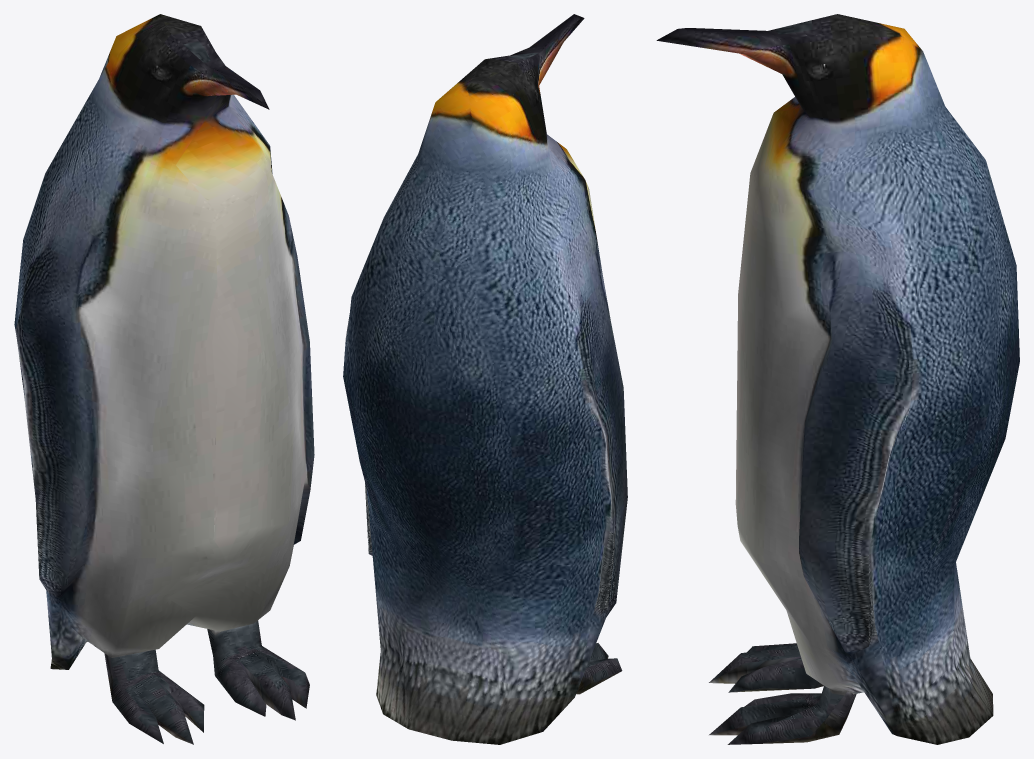
The model's file is penguin.gltf.
3 views of the same model, side by side, from view 1: azimuth 30°, elevation 25°; view 2: azimuth 150°, elevation 25°; view 3: azimuth 270°, elevation 25° (orthographic). The views are drawn at different scales.
Visible parts, largest first — view 1: 10033_Penguin_v1_iterations-2.002; view 2: 10033_Penguin_v1_iterations-2.002; view 3: 10033_Penguin_v1_iterations-2.002.
Part boxes in pixels (x1,y1,x2,y2): 10033_Penguin_v1_iterations-2.002: [14, 14, 314, 744]; 10033_Penguin_v1_iterations-2.002: [343, 14, 627, 744]; 10033_Penguin_v1_iterations-2.002: [656, 14, 1019, 744].
Size of the model in its own units: 13.11 by 31 by 14.86.
Materials: 1 (1 with a texture image).
